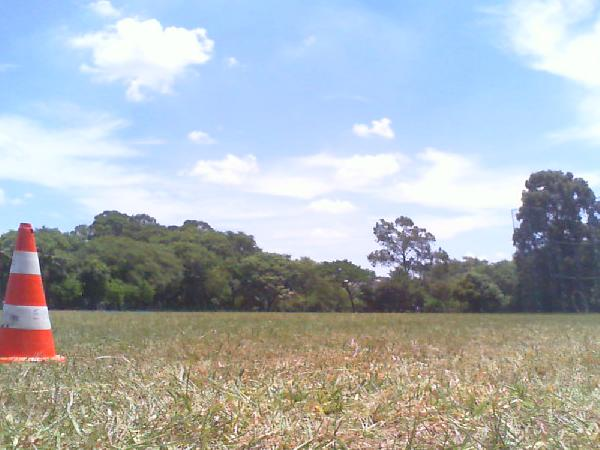0 cone: (0, 223, 66, 361)
